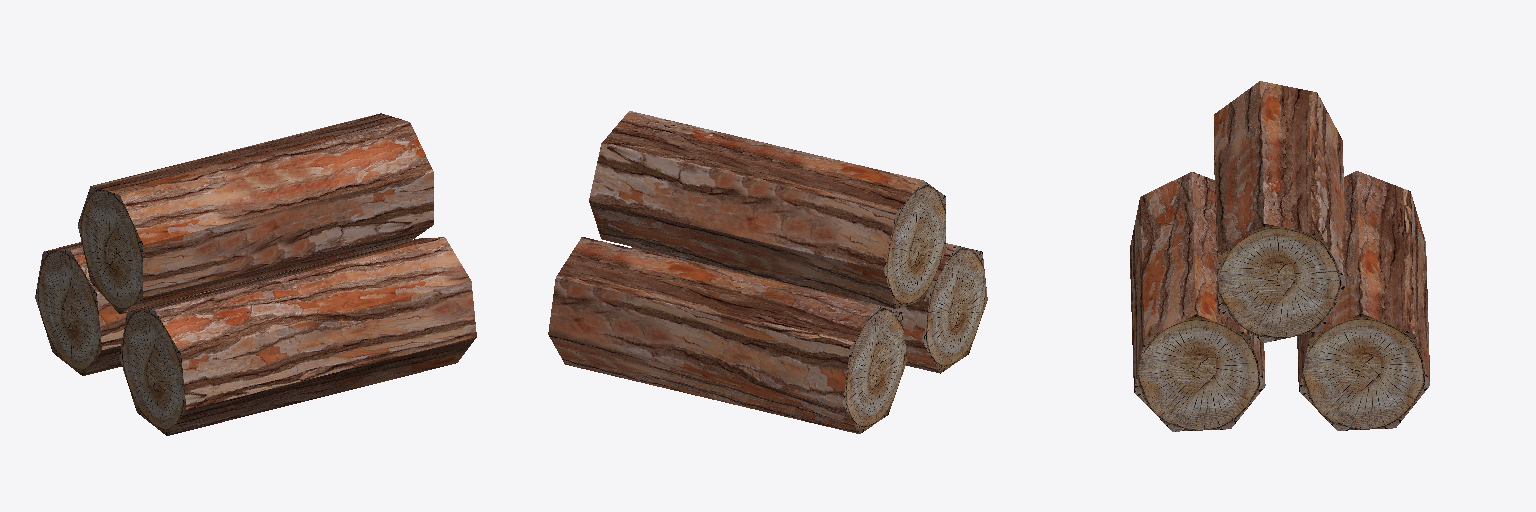
The picture shows the model from 3 angles: view 1: azimuth 30°, elevation 25°; view 2: azimuth 150°, elevation 25°; view 3: azimuth 270°, elevation 25°; orthographic projection.
Visible parts, largest first — view 1: pCylinder2; view 2: pCylinder2; view 3: pCylinder2.
Boxes of the visible parts, x1=… form: pCylinder2: x1=35, y1=113, x2=476, y2=435; pCylinder2: x1=548, y1=111, x2=987, y2=433; pCylinder2: x1=1130, y1=81, x2=1429, y2=431.
Size of the model in its own units: 1.01 by 0.6782 by 0.8902.
Materials: 6 (2 with a texture image).